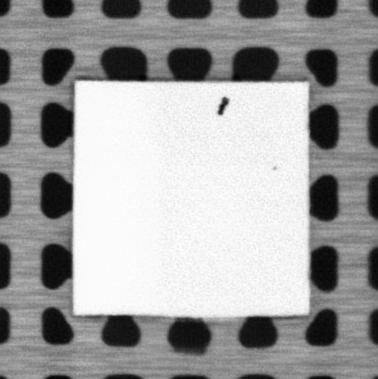DIE_INK: (215, 96, 230, 116), (270, 163, 279, 171)
